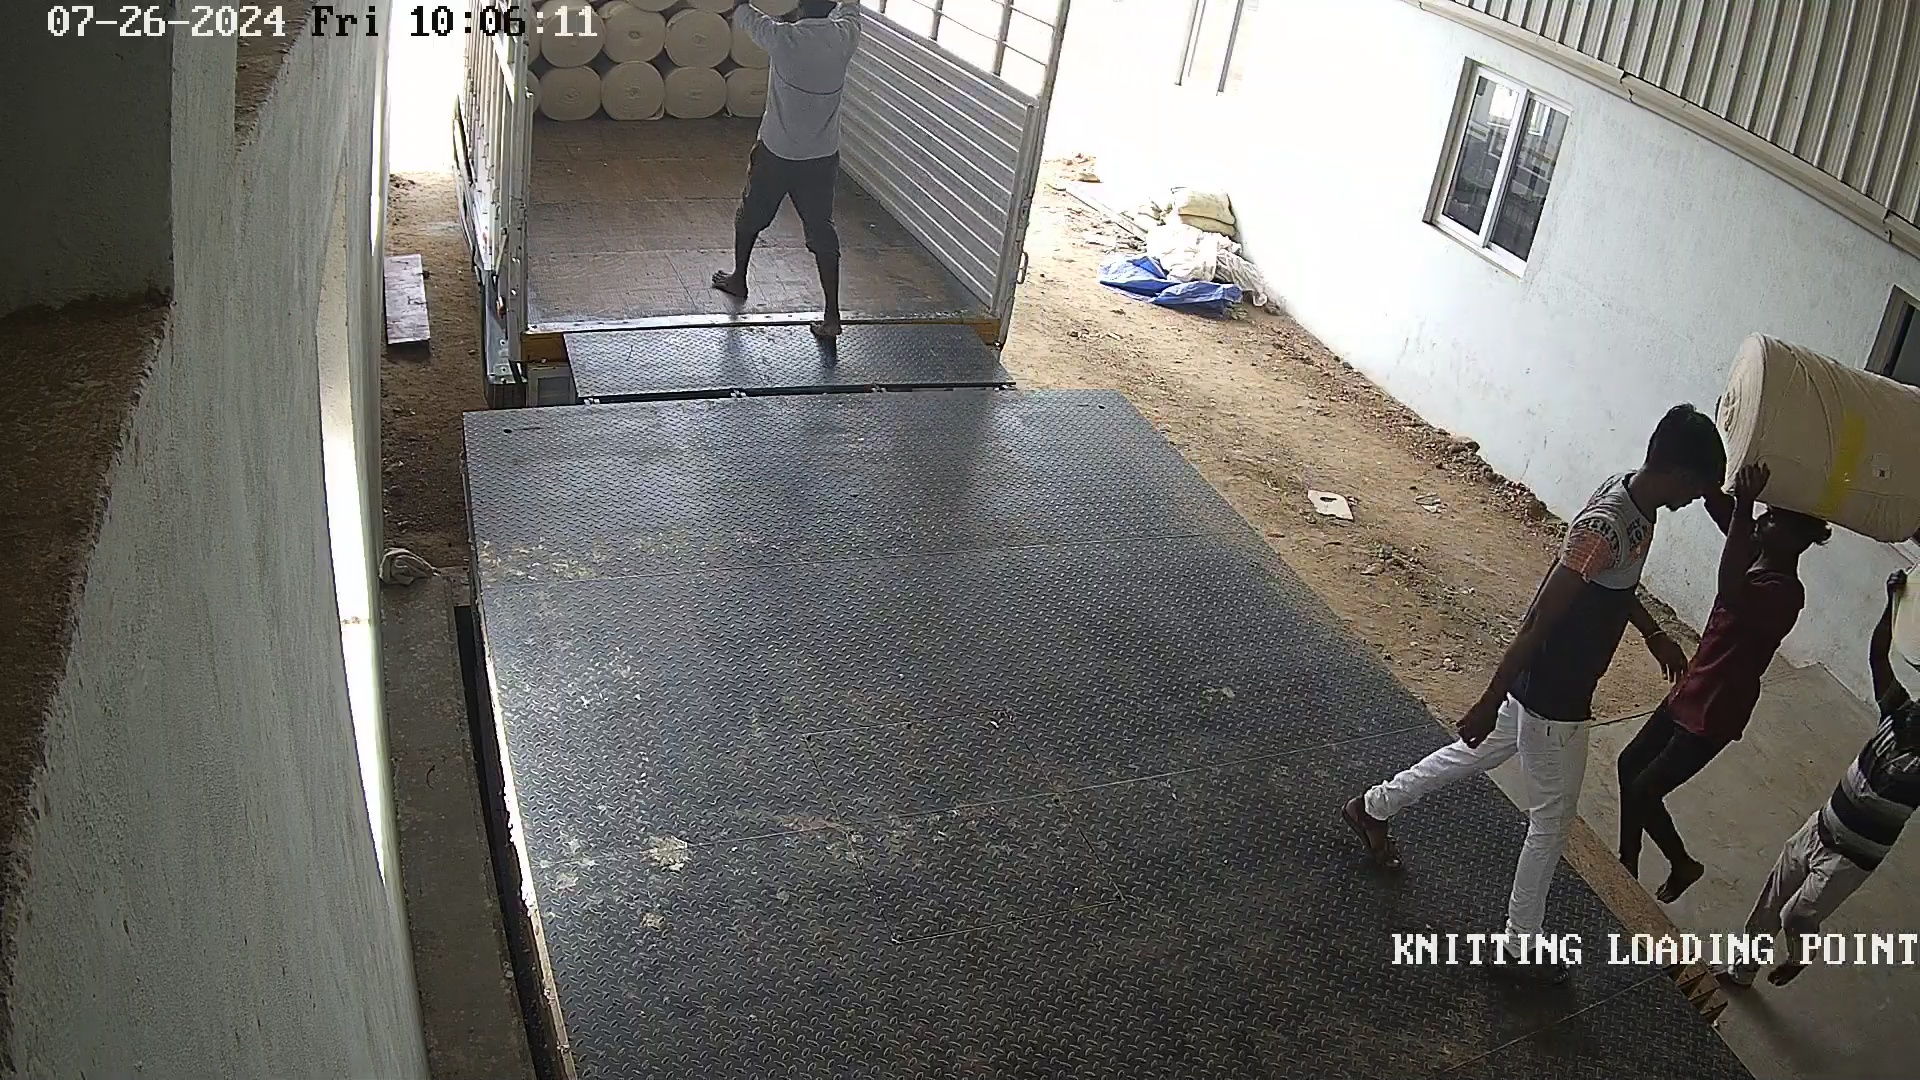bag: (1708, 309, 1920, 563)
